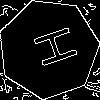H: (23, 24, 79, 73)
